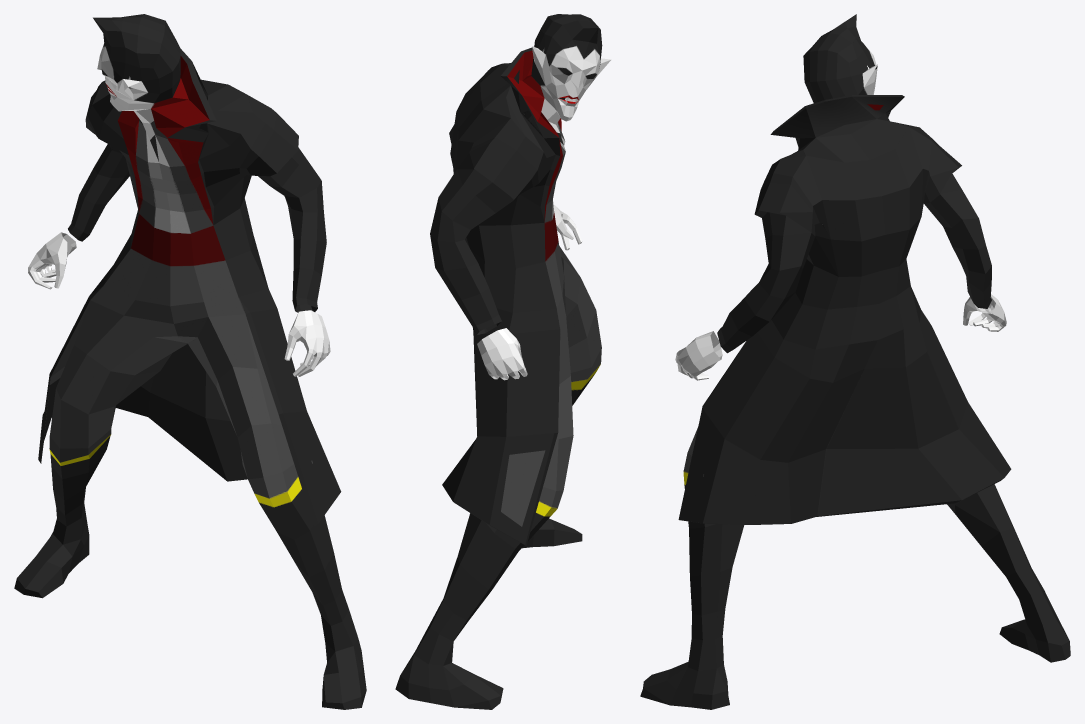
The model's file is VampireIdle(62).obj.
3 renders of one model, left to right at view 1: azimuth 30°, elevation 25°; view 2: azimuth 150°, elevation 25°; view 3: azimuth 270°, elevation 25°, orthographic. The views are drawn at different scales.
Visible parts, largest first — view 1: Plane002; view 2: Plane002; view 3: Plane002.
Part boxes in pixels (x1,y1,x2,y2): Plane002: (14, 14, 366, 709); Plane002: (395, 14, 610, 709); Plane002: (640, 14, 1070, 709).
Bounding box in the file's own units: 96.93 × 305 × 195.
